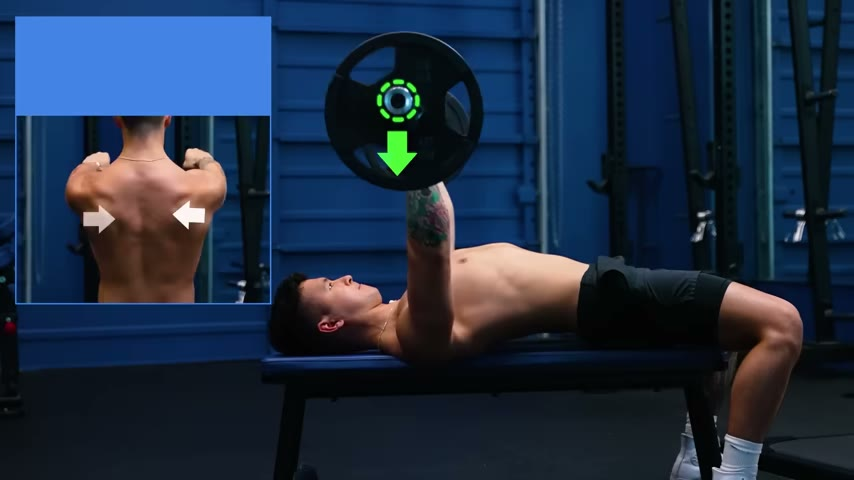barbell_plate_side: (431, 29, 485, 195)
